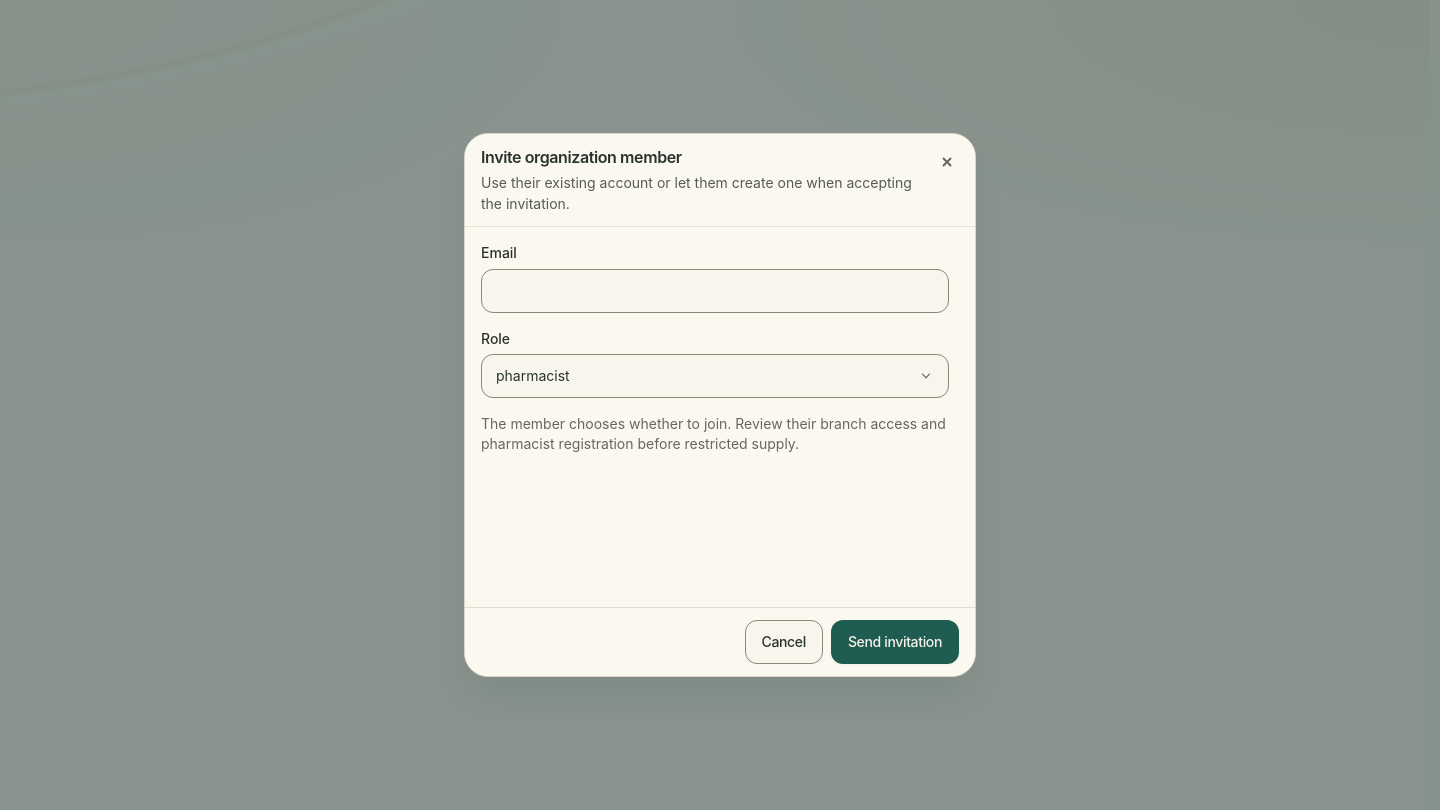
Test: defaults pharmacy invitations to pharmacists and omits clinical roles
Click the dropdown named "Role" at (533, 375), box top-left (481, 354), bottom-right (949, 398)
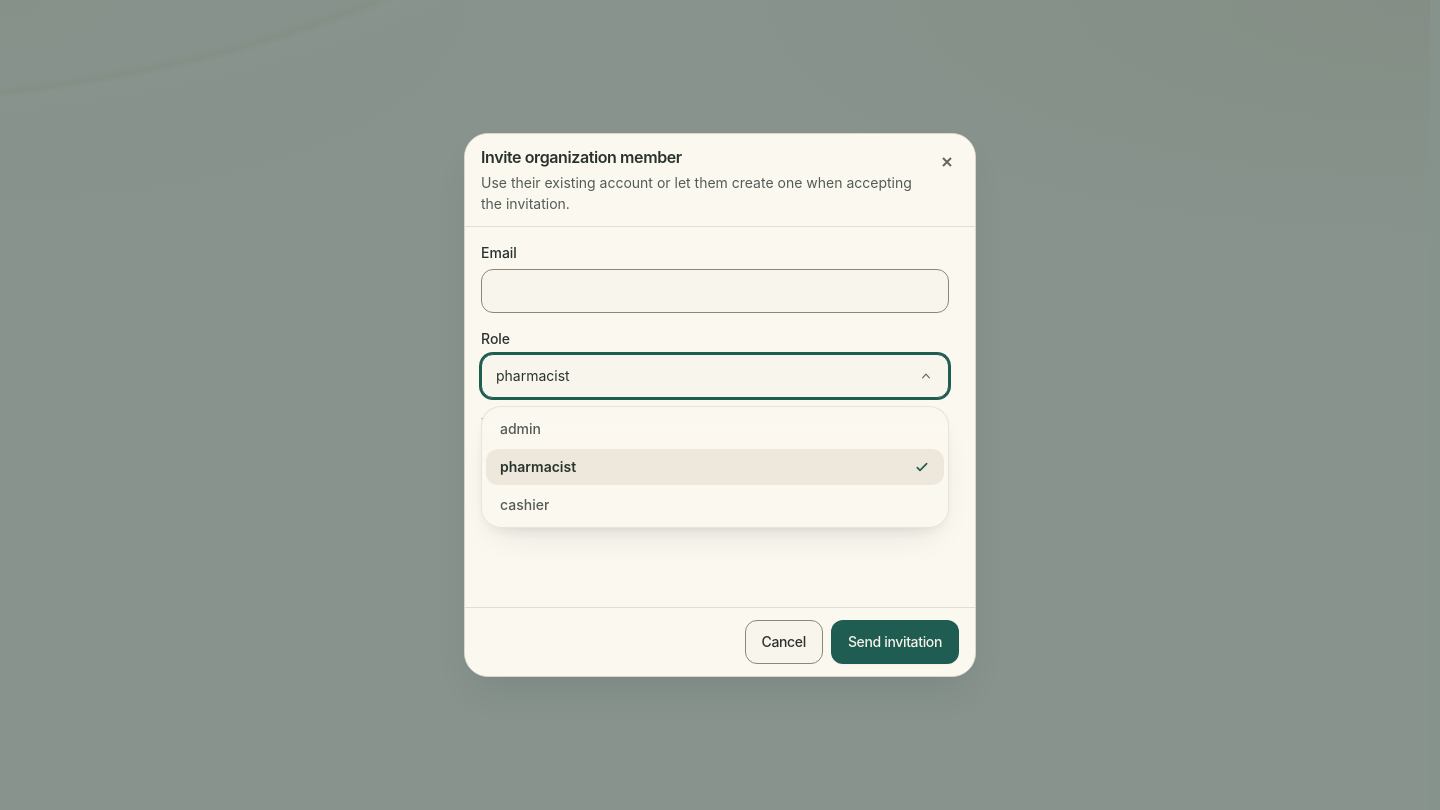
Expected: the option "cashier" is shown, top-left (486, 487), bottom-right (944, 523)
